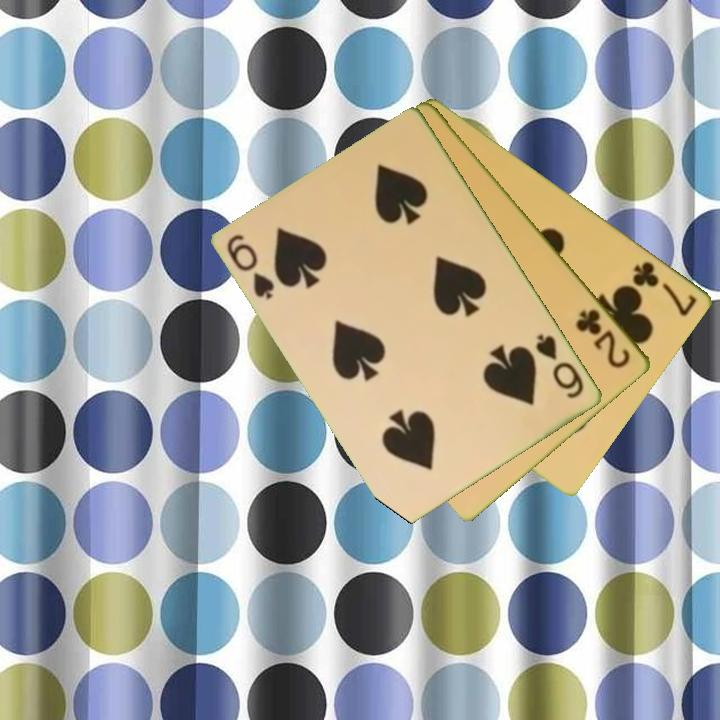2c: (573, 305, 634, 371)
6s: (532, 330, 588, 402), (223, 230, 278, 303)
7c: (629, 257, 701, 319)
